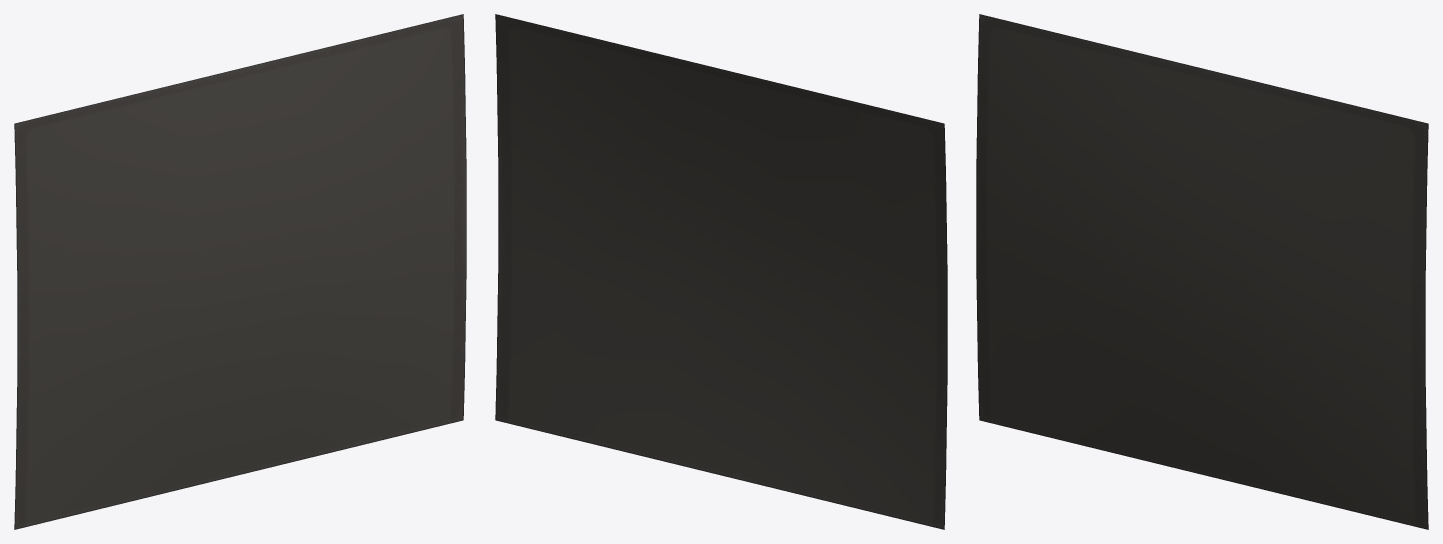
Rendered from staticmodels-screen.gltf.
The picture shows the model from 3 angles, left to right: view 1: azimuth 30°, elevation 25°; view 2: azimuth 150°, elevation 25°; view 3: azimuth 330°, elevation 25°; orthographic projection.
Parts seen in each view (by area): view 1: screen; view 2: screen; view 3: screen.
Boxes of the visible parts, <box> form: screen: <box>14,14,466,529</box>; screen: <box>495,14,947,529</box>; screen: <box>976,14,1428,529</box>.
Bounding box in the file's own units: 1.64 × 1.42 × 0.0578.
Materials: 1 (1 with a texture image).
